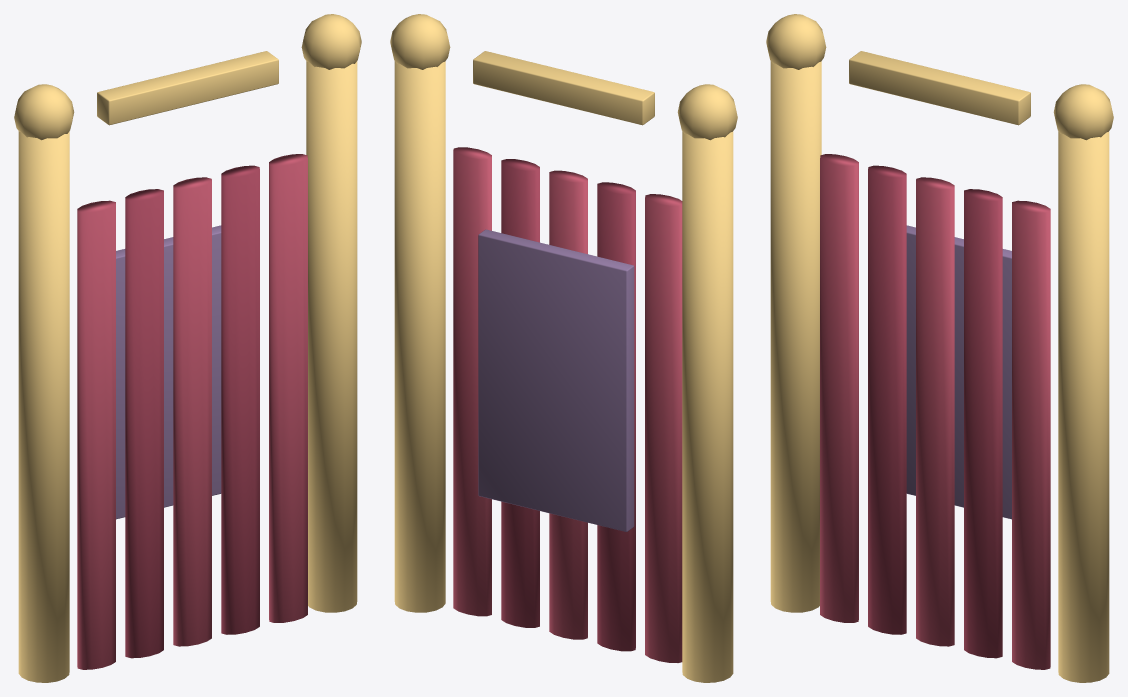
File: opera_door.glb
3 renders of one model, left to right at view 1: azimuth 30°, elevation 25°; view 2: azimuth 150°, elevation 25°; view 3: azimuth 330°, elevation 25°, orthographic.
Parts seen in each view (by area): view 1: pillar, pillar.001, curtain_fold.002, curtain_fold, curtain_fold.003, curtain_fold.001, curtain_fold.004, recess, lintel, finial, finial.001; view 2: recess, pillar.001, pillar, curtain_fold, curtain_fold.004, curtain_fold.001, curtain_fold.002, curtain_fold.003, lintel, finial, finial.001; view 3: pillar.001, pillar, curtain_fold.002, curtain_fold.001, curtain_fold.004, curtain_fold.003, curtain_fold, recess, lintel, finial.001, finial.
Boxes of the visible parts, x1=… form: pillar: x1=18, y1=131, x2=69, y2=682; pillar.001: x1=306, y1=61, x2=357, y2=612; curtain_fold.002: x1=173, y1=177, x2=211, y2=646; curtain_fold: x1=77, y1=200, x2=115, y2=669; curtain_fold.003: x1=221, y1=165, x2=259, y2=634; curtain_fold.001: x1=125, y1=189, x2=163, y2=658; curtain_fold.004: x1=269, y1=154, x2=307, y2=622; recess: x1=116, y1=225, x2=221, y2=519; lintel: x1=97, y1=51, x2=278, y2=125; finial: x1=14, y1=84, x2=74, y2=140; finial.001: x1=301, y1=14, x2=361, y2=69; recess: x1=478, y1=229, x2=634, y2=531; pillar.001: x1=394, y1=61, x2=445, y2=612; pillar: x1=682, y1=131, x2=733, y2=682; curtain_fold: x1=645, y1=194, x2=682, y2=662; curtain_fold.004: x1=453, y1=147, x2=491, y2=616; curtain_fold.001: x1=597, y1=182, x2=635, y2=651; curtain_fold.002: x1=549, y1=170, x2=587, y2=639; curtain_fold.003: x1=501, y1=159, x2=539, y2=627; lintel: x1=473, y1=51, x2=654, y2=125; finial: x1=677, y1=84, x2=737, y2=140; finial.001: x1=390, y1=14, x2=450, y2=69; pillar.001: x1=1058, y1=131, x2=1109, y2=682; pillar: x1=770, y1=61, x2=821, y2=612; curtain_fold.002: x1=916, y1=177, x2=954, y2=646; curtain_fold.001: x1=868, y1=165, x2=906, y2=634; curtain_fold.004: x1=1012, y1=200, x2=1050, y2=669; curtain_fold.003: x1=964, y1=189, x2=1002, y2=658; curtain_fold: x1=820, y1=154, x2=858, y2=622; recess: x1=906, y1=225, x2=1011, y2=519; lintel: x1=849, y1=51, x2=1030, y2=125; finial.001: x1=1053, y1=84, x2=1113, y2=140; finial: x1=766, y1=14, x2=826, y2=69.
Size of the model in its own units: 6.35 by 10.5 by 1.
